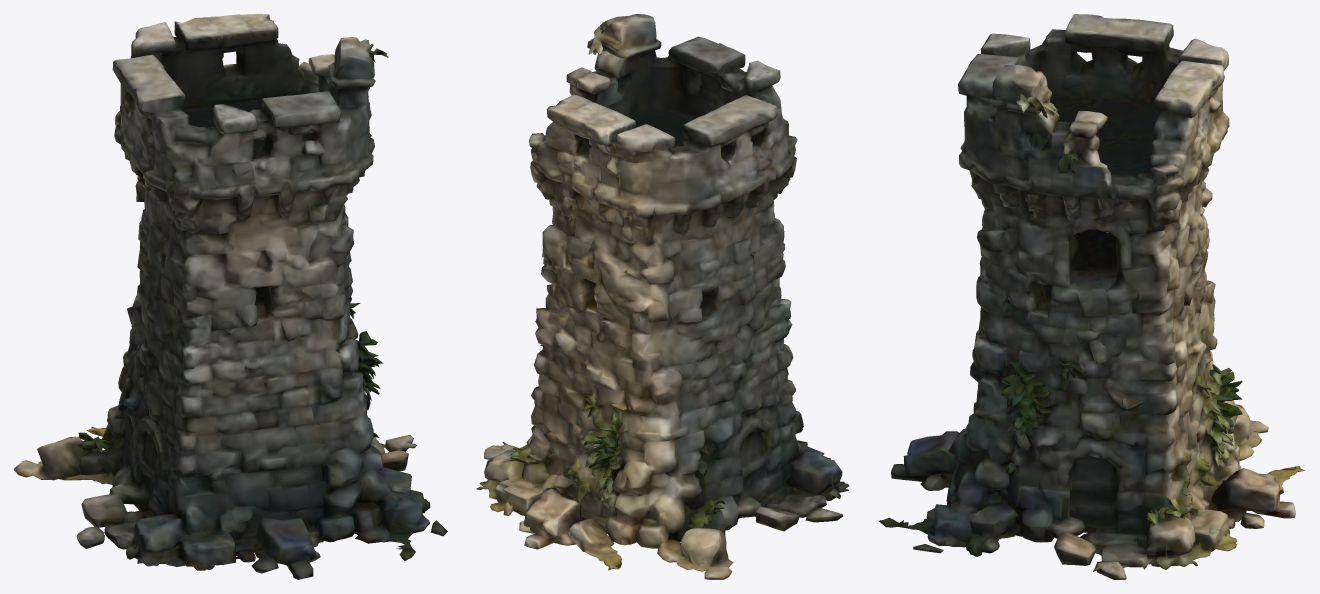
File: ruin_tower.glb
3 views of the same model, side by side, from view 1: azimuth 30°, elevation 25°; view 2: azimuth 150°, elevation 25°; view 3: azimuth 270°, elevation 25° (orthographic). The views are drawn at different scales.
Parts seen in each view (by area): view 1: tripo_node_643b481d-1b67-439a-a697-66e1f2e84eee; view 2: tripo_node_643b481d-1b67-439a-a697-66e1f2e84eee; view 3: tripo_node_643b481d-1b67-439a-a697-66e1f2e84eee.
Boxes of the visible parts, box(x1,y1,x2,y2) form: tripo_node_643b481d-1b67-439a-a697-66e1f2e84eee: box(14, 14, 447, 579); tripo_node_643b481d-1b67-439a-a697-66e1f2e84eee: box(476, 14, 849, 579); tripo_node_643b481d-1b67-439a-a697-66e1f2e84eee: box(878, 14, 1305, 579).
Size of the model in its own units: 0.8024 by 1 by 0.8317.
1 material, 1 textured.
